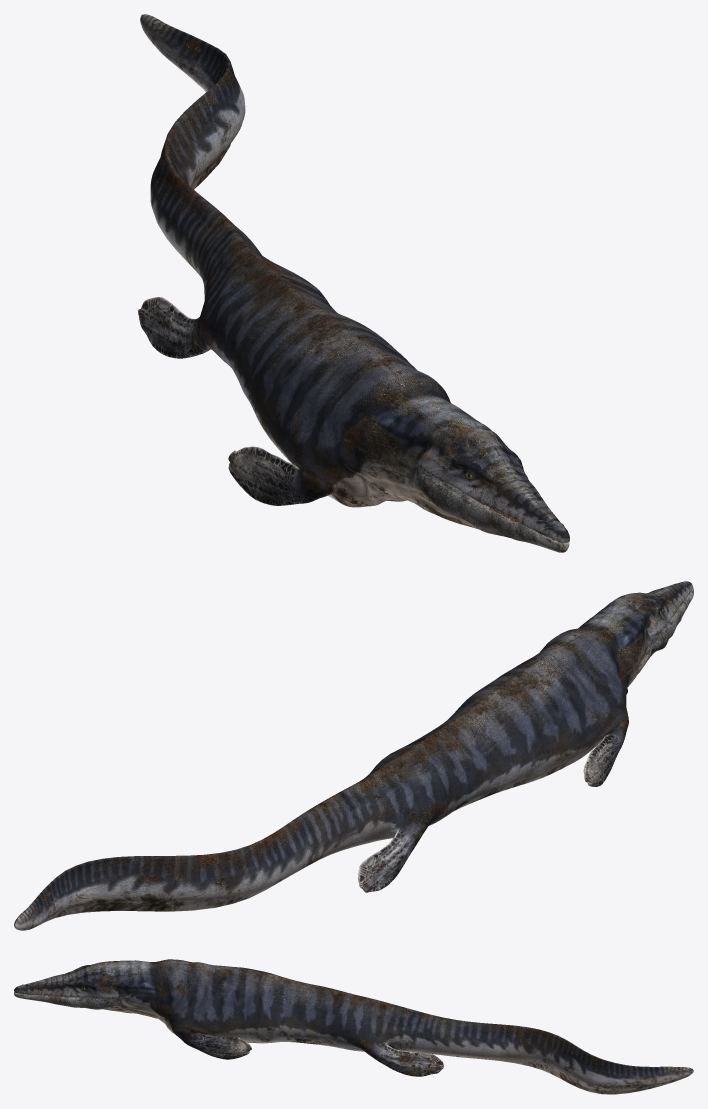
File: mosassauro_freddy.glb
3 views of the same model, one above another, from view 1: azimuth 30°, elevation 25°; view 2: azimuth 150°, elevation 25°; view 3: azimuth 270°, elevation 25° (orthographic). The views are drawn at different scales.
Parts seen in each view (by area): view 1: base; view 2: base; view 3: base.
Part boxes in pixels (x1,y1,x2,y2): base: (138,14,569,552); base: (14,581,693,930); base: (14,959,693,1094).
Size of the model in its own units: 4.02 by 1.7 by 12.54.
4 materials, 4 textured.
